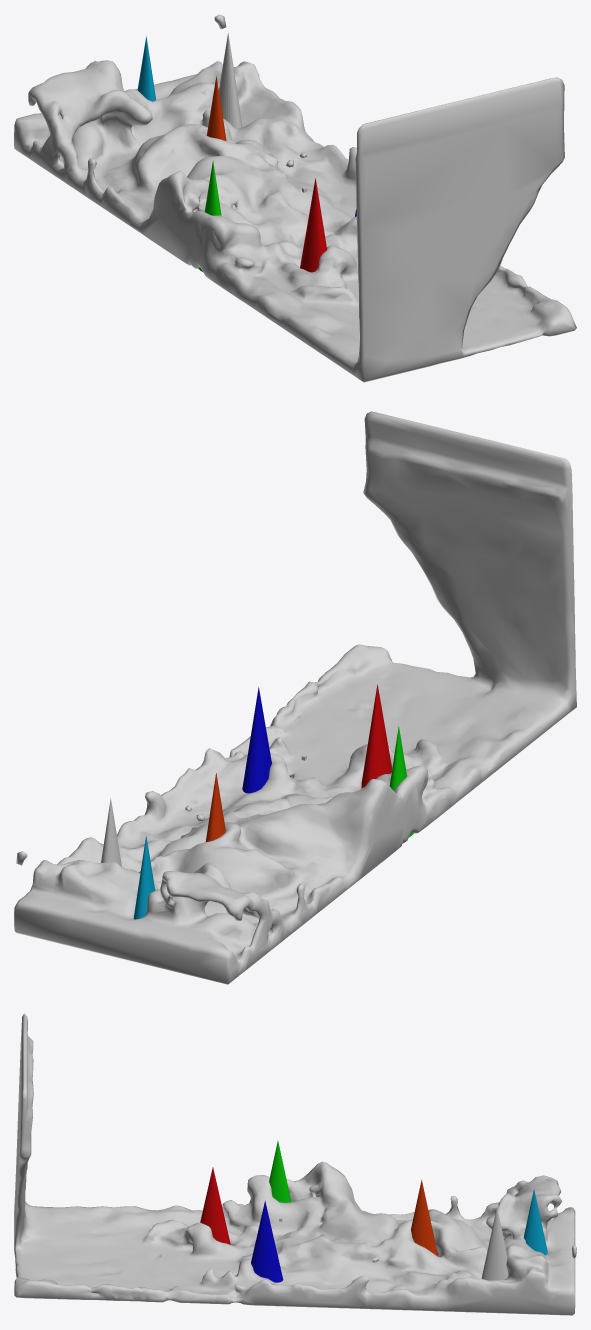
The picture shows the model from 3 angles, top to bottom: view 1: azimuth 30°, elevation 25°; view 2: azimuth 150°, elevation 25°; view 3: azimuth 270°, elevation 25°; orthographic projection. The views are drawn at different scales.
Parts seen in each view (by area): view 1: Liquid_Domain, 円錐.001, 円錐, 円錐.004, 円錐.005, 円錐.003; view 2: Liquid_Domain, 円錐.002, 円錐.001, 円錐.005, 円錐.004, 円錐; view 3: Liquid_Domain, 円錐.002, 円錐, 円錐.001, 円錐.004, 円錐.005, 円錐.003.
Boxes of the visible parts, x1=… form: Liquid_Domain: x1=14, y1=14, x2=576, y2=382; 円錐.001: x1=300, y1=178, x2=326, y2=272; 円錐: x1=219, y1=33, x2=242, y2=128; 円錐.004: x1=206, y1=76, x2=226, y2=140; 円錐.005: x1=137, y1=36, x2=155, y2=101; 円錐.003: x1=198, y1=160, x2=221, y2=272; Liquid_Domain: x1=14, y1=411, x2=576, y2=984; 円錐.002: x1=242, y1=687, x2=271, y2=793; 円錐.001: x1=361, y1=684, x2=391, y2=787; 円錐.005: x1=133, y1=836, x2=155, y2=919; 円錐.004: x1=205, y1=773, x2=225, y2=841; 円錐: x1=101, y1=798, x2=121, y2=866; Liquid_Domain: x1=14, y1=1013, x2=576, y2=1315; 円錐.002: x1=251, y1=1200, x2=283, y2=1282; 円錐: x1=481, y1=1207, x2=508, y2=1280; 円錐.001: x1=200, y1=1167, x2=230, y2=1244; 円錐.004: x1=411, y1=1180, x2=438, y2=1256; 円錐.005: x1=523, y1=1189, x2=547, y2=1254; 円錐.003: x1=269, y1=1141, x2=291, y2=1202.
Bounding box in the file's own units: 129 × 158 × 362.
